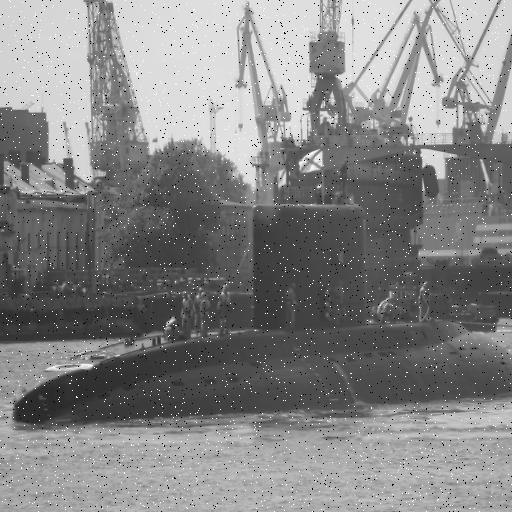submarine: (13, 206, 512, 423)
